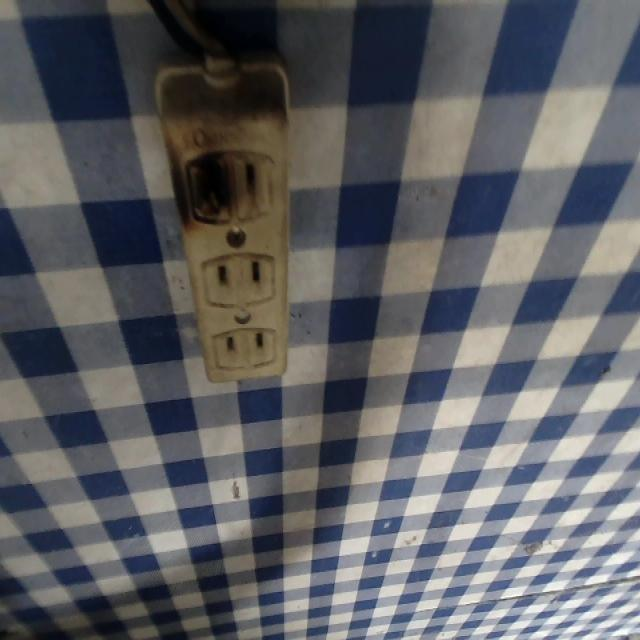-: (177, 137, 238, 232)
